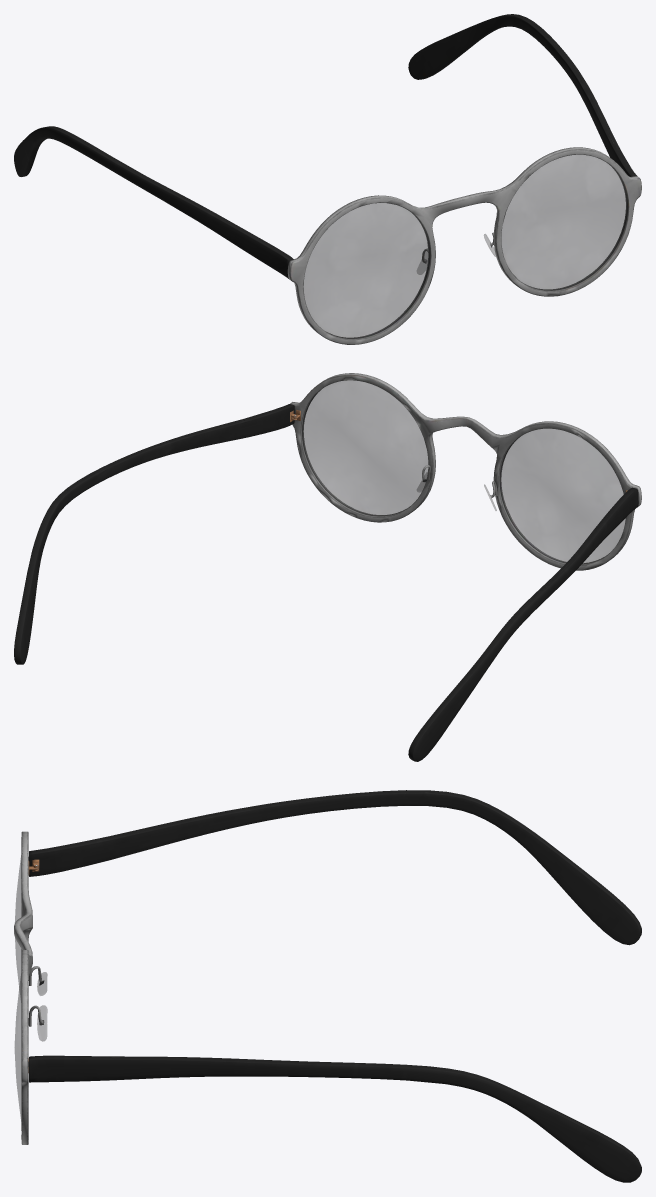
File: round_spectacles.glb
3 views of the same model, one above another, from view 1: azimuth 30°, elevation 25°; view 2: azimuth 150°, elevation 25°; view 3: azimuth 270°, elevation 25° (orthographic). The views are drawn at different scales.
Visible parts, largest first — view 1: round_spectacles; view 2: round_spectacles; view 3: round_spectacles.
Boxes of the visible parts, box(x1,y1,x2,y2) form: round_spectacles: box(14, 14, 641, 344); round_spectacles: box(14, 373, 641, 761); round_spectacles: box(14, 790, 641, 1182).
Bounding box in the file's own units: 0.1578 × 0.0463 × 0.149.
2 materials, 2 textured.
